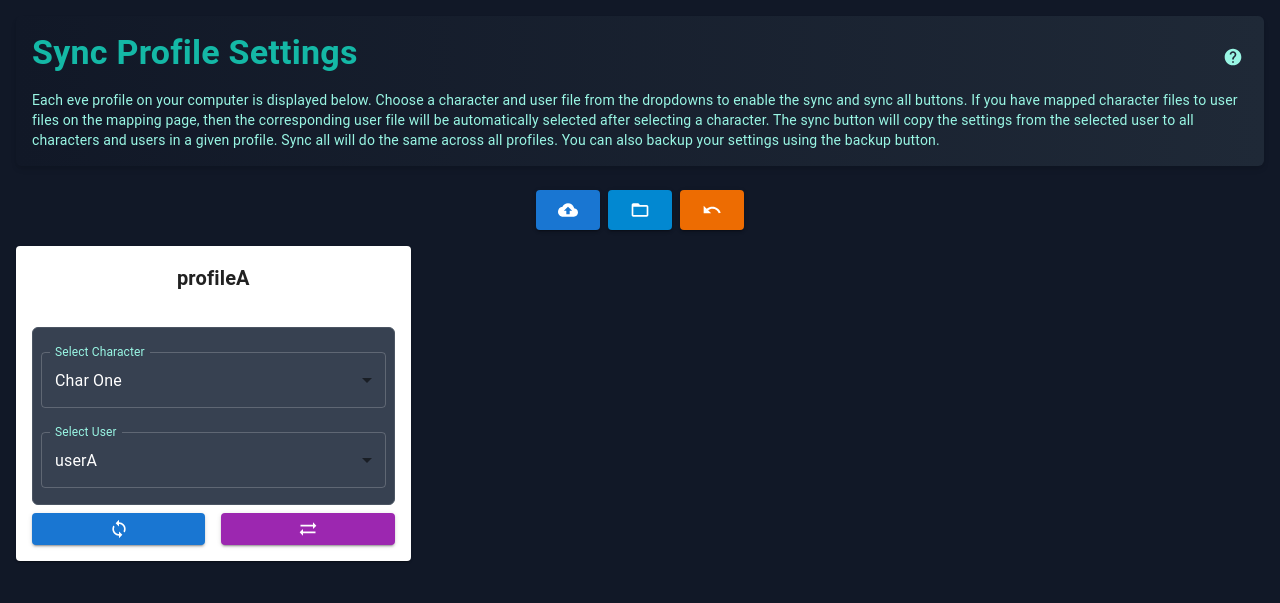
Sync component › syncs a single profile
Click the button named "sync this specific profile".
click(119, 529)  # box [32, 513, 205, 545]
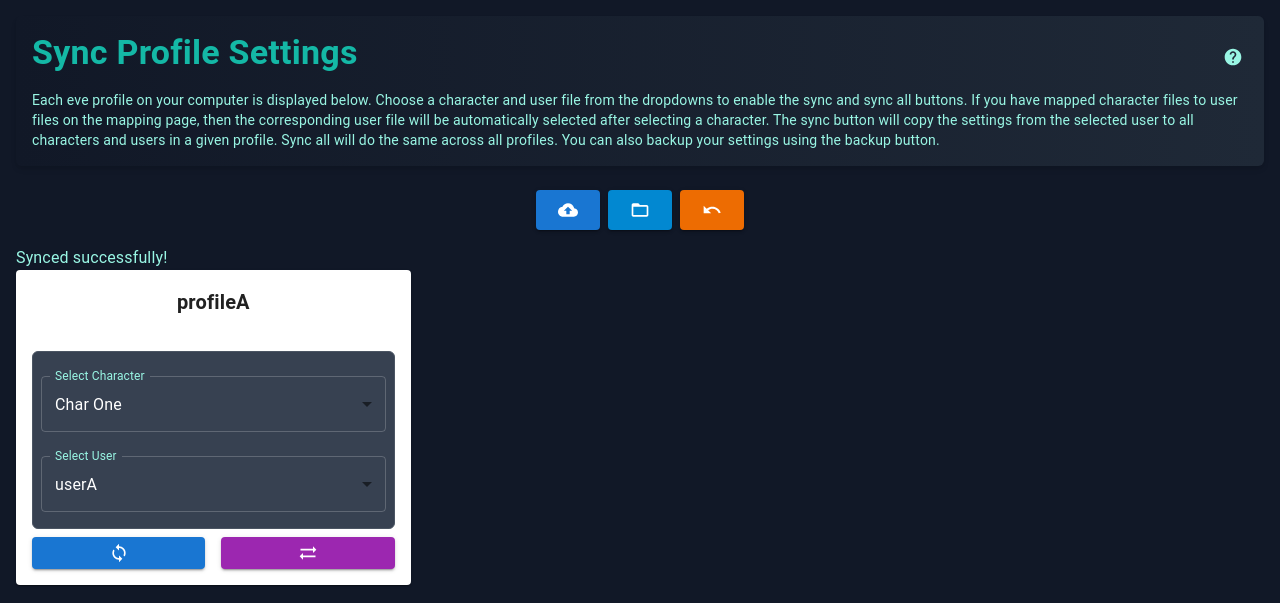
expect the text "Synced successfully!" is shown: met, box [16, 248, 168, 267]
